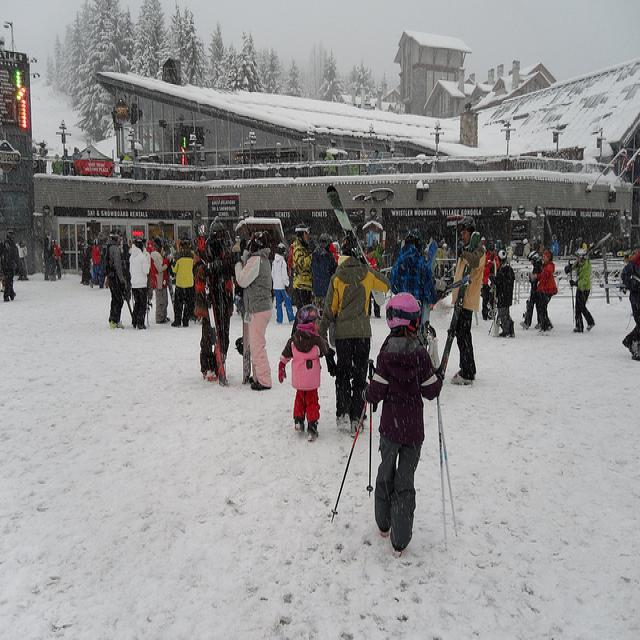non-dog: (365, 292, 445, 553), (318, 245, 390, 432), (277, 304, 336, 440), (435, 235, 487, 384), (237, 244, 276, 392), (194, 236, 233, 383), (392, 235, 437, 331), (488, 241, 515, 339), (524, 253, 556, 333), (169, 239, 197, 328), (620, 248, 640, 359), (569, 246, 594, 333), (103, 242, 127, 330), (127, 239, 150, 329), (292, 231, 316, 308), (271, 243, 293, 326), (151, 247, 175, 321)
